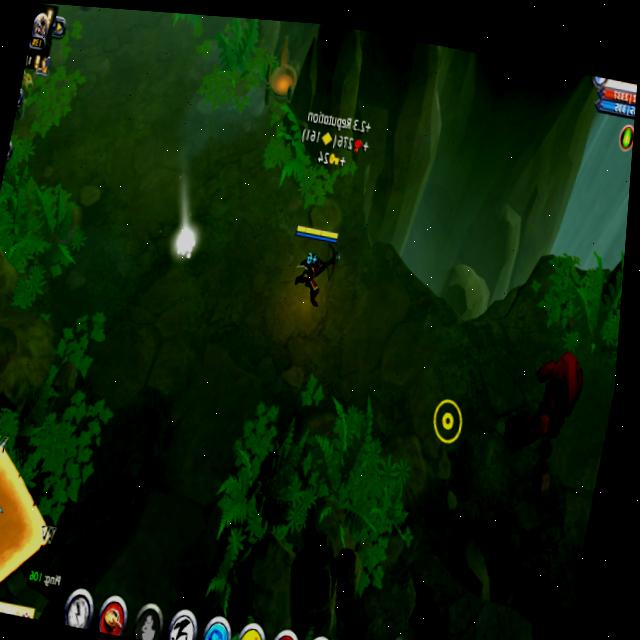ore: (493, 325, 598, 516), (60, 5, 101, 20)
red: (277, 215, 350, 318)
stone: (168, 222, 201, 268)
